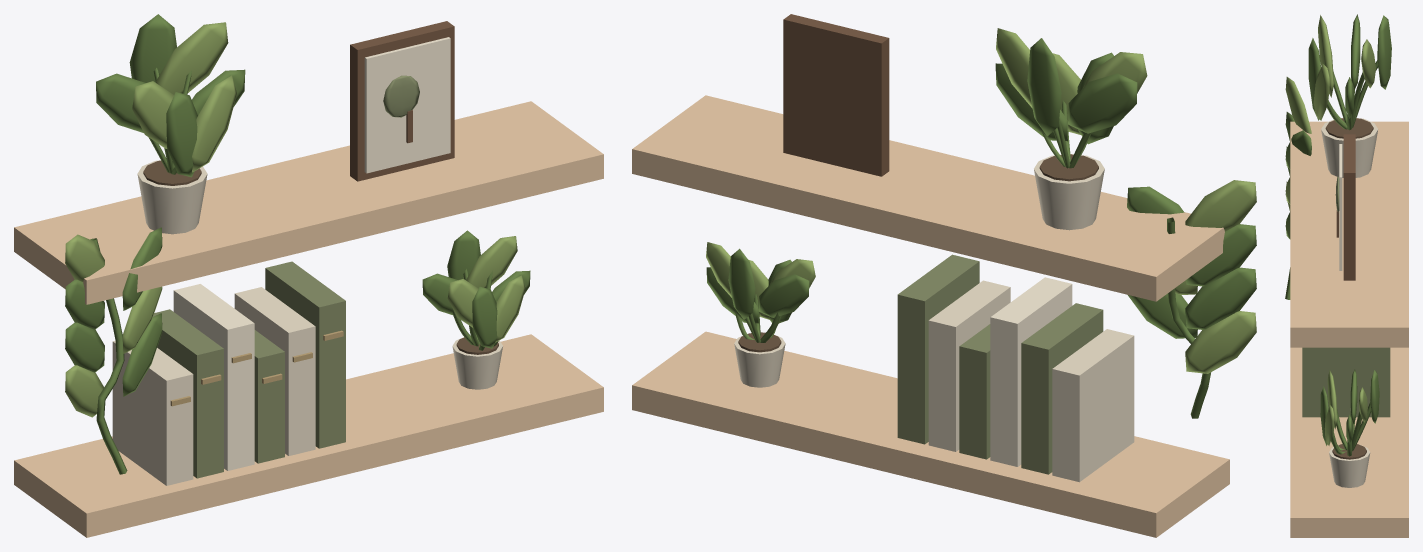
Rendered from study_ref_wall_shelves.glb.
3 views of the same model, side by side, from view 1: azimuth 30°, elevation 25°; view 2: azimuth 150°, elevation 25°; view 3: azimuth 270°, elevation 25° (orthographic). The views are drawn at different scales.
Bounding box in the file's own units: 1.51 × 1.2 × 0.3658.
